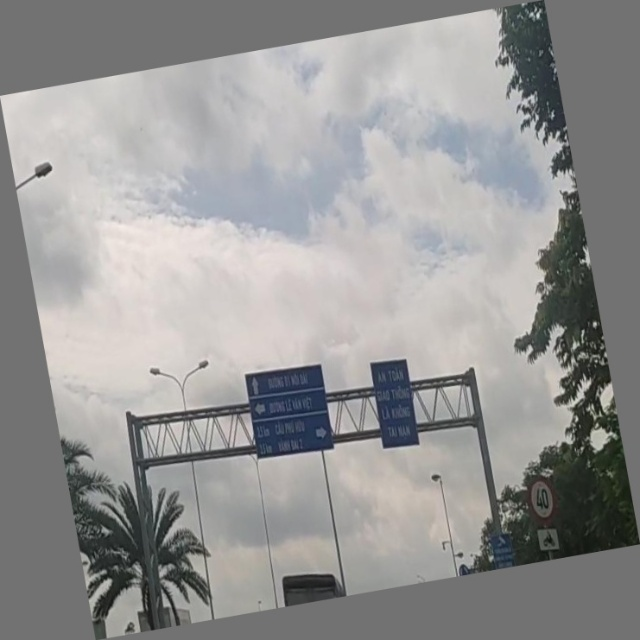P.127*40: (523, 470, 561, 527)
S.505a*Xe may: (534, 522, 561, 553)
